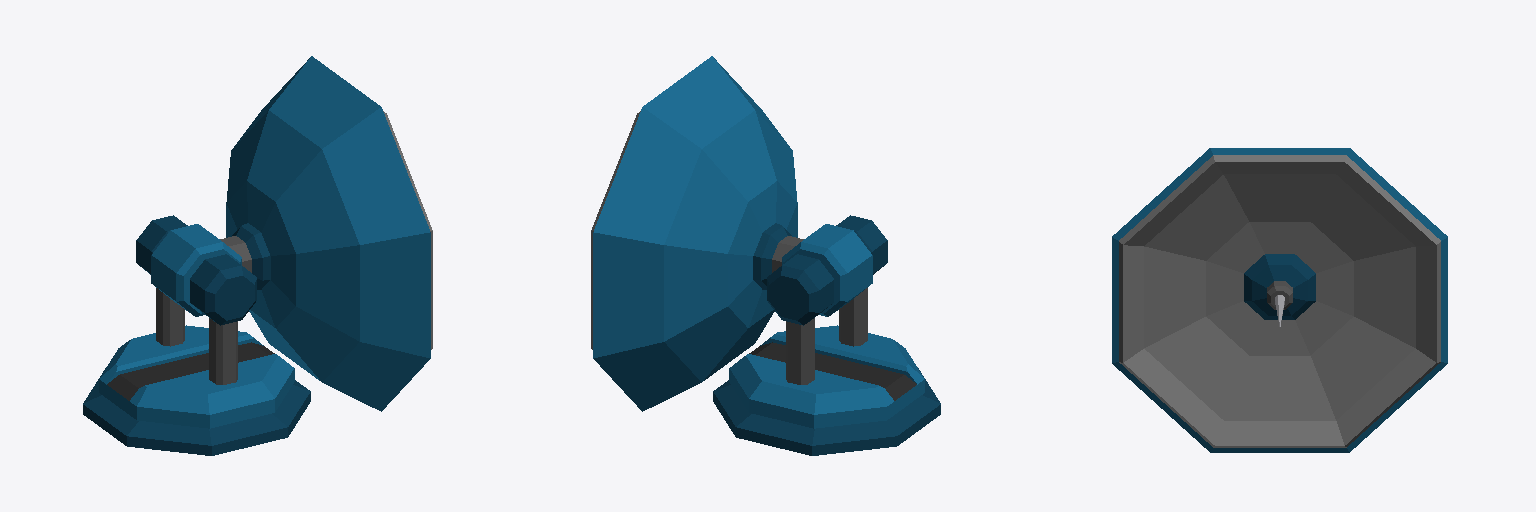
The model's file is Spacestation_Miscellaneous_Dish_Rotating.obj.
3 views of the same model, side by side, from view 1: azimuth 30°, elevation 25°; view 2: azimuth 150°, elevation 25°; view 3: azimuth 270°, elevation 25° (orthographic).
Visible parts, largest first — view 1: object14, object5, object1, object7, object3, object2, object13, object4, object8, object10, object9; view 2: object14, object5, object1, object7, object8, object2, object4, object13, object3, object10, object9; view 3: object9, object14, object10.
Part boxes in pixels (x1,y1,x2,y2): object14: (226, 56, 430, 411); object5: (99, 325, 294, 428); object1: (83, 368, 310, 455); object7: (151, 224, 241, 316); object3: (190, 254, 256, 325); object2: (107, 342, 274, 400); object13: (209, 318, 237, 384); object4: (156, 288, 184, 346); object8: (136, 215, 187, 274); object10: (232, 223, 270, 289); object9: (383, 111, 432, 349); object14: (593, 56, 797, 411); object5: (729, 325, 924, 428); object1: (713, 368, 940, 455); object7: (782, 224, 872, 316); object8: (767, 254, 833, 325); object2: (749, 342, 916, 400); object4: (786, 318, 814, 384); object13: (839, 288, 867, 346); object3: (836, 215, 887, 274); object10: (753, 223, 791, 289); object9: (591, 111, 640, 349); object9: (1119, 155, 1440, 447); object14: (1112, 148, 1447, 452); object10: (1244, 254, 1315, 319).
Size of the model in its own units: 1.15 by 1.11 by 1.11.